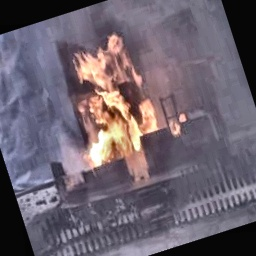fire: (55, 31, 172, 175)
